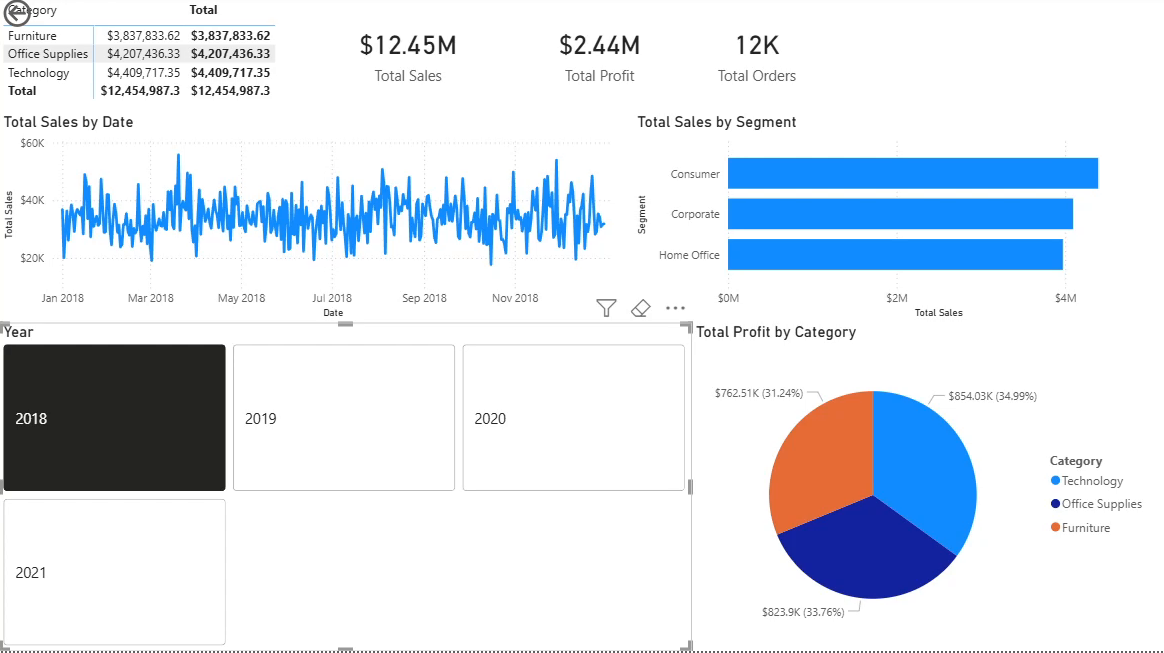

The page's visual inventory and layout, read from the dashboard file:
{"tool":"powerbi","page":{"name":"Page 1","canvas":[1280,720],"ordinal":0},"visuals":[{"type":"pivotTable","fields":{"Rows":["Product Table.Category"],"Columns":["Region Table.Region"],"Values":["Total Sales.Measure"]},"box":[0,0,340.4,128.4],"z":0},{"type":"card","fields":{"Values":["Total Sales.Measure"]},"box":[340.4,23.3,217.9,81.7],"z":1000},{"type":"card","fields":{"Values":["Total Profit.Total Profit"]},"box":[558.3,22.4,202.3,82.7],"z":2000},{"type":"card","fields":{"Values":["Total Orders.Total Orders"]},"box":[760.6,23.3,144,81.7],"z":3000},{"type":"lineChart","fields":{"Y":["Total Sales.Total Sales"],"Category":["Date Table.Date"]},"box":[0,128.4,695.4,231.5],"z":4000},{"type":"clusteredBarChart","fields":{"Category":["Customer Table.Segment"],"Y":["Total Sales.Total Sales"]},"box":[695.4,128.4,584.6,231.5],"z":5000},{"type":"pieChart","fields":{"Category":["Product Table.Category"],"Y":["Total Profit.Total Profit"]},"box":[760.6,359.9,508.7,359.9],"z":6000},{"type":"actionButton","box":[0,0,100,40],"z":7000},{"type":"advancedSlicerVisual","fields":{"Values":["Date Table.Year"]},"box":[0,359.9,760.6,359.9],"z":8000}]}

Visuals, with their boxes in screenshot pixels (x1, y1, x2, y2), scaled from the page's 1280x720 canvas onto the 1164x653 screenshot:
pivotTable - Product Table.Category x Region Table.Region: 0, 0, 310, 116
card - Total Sales.Measure: 310, 21, 508, 95
card - Total Profit.Total Profit: 508, 20, 692, 95
card - Total Orders.Total Orders: 692, 21, 823, 95
lineChart - Total Sales.Total Sales x Date Table.Date: 0, 116, 632, 326
clusteredBarChart - Customer Table.Segment x Total Sales.Total Sales: 632, 116, 1163, 326
pieChart - Product Table.Category x Total Profit.Total Profit: 692, 326, 1154, 652
actionButton: 0, 0, 91, 36
advancedSlicerVisual - Date Table.Year: 0, 326, 692, 652
